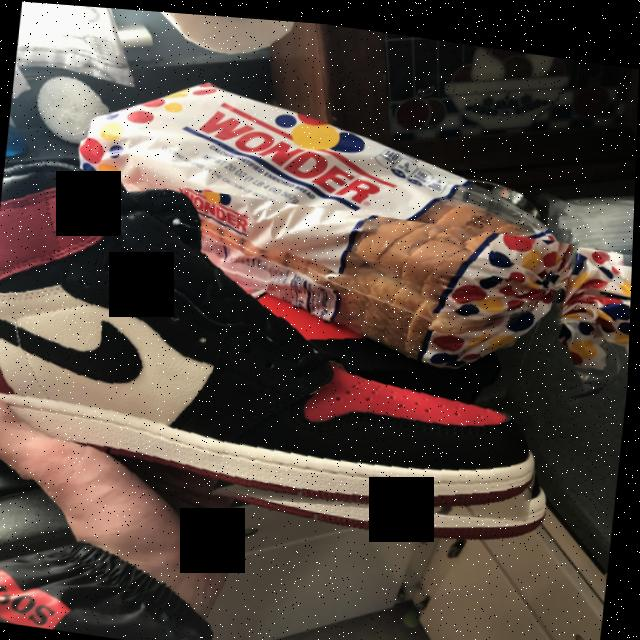shoe: (0, 161, 578, 550)
